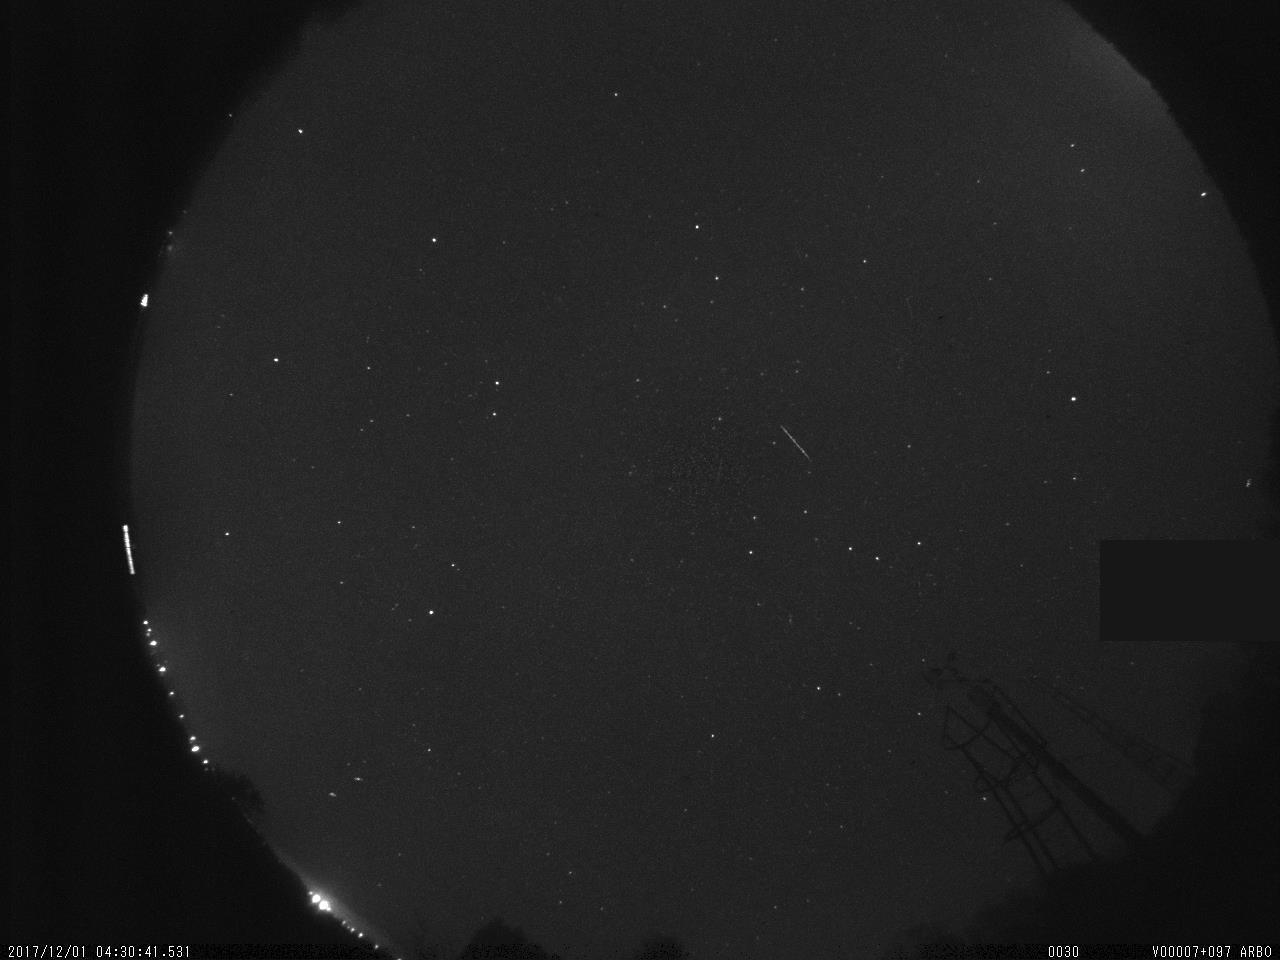meteor: (768, 417, 884, 484)
